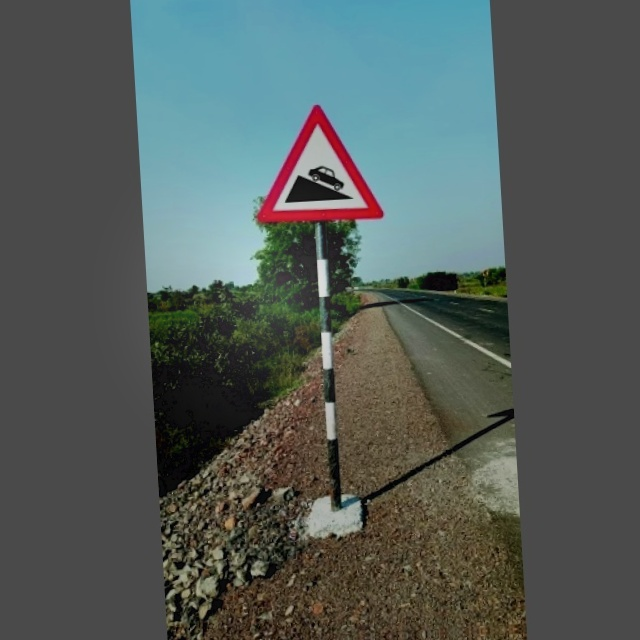Steep_Descent: (253, 101, 378, 224)
